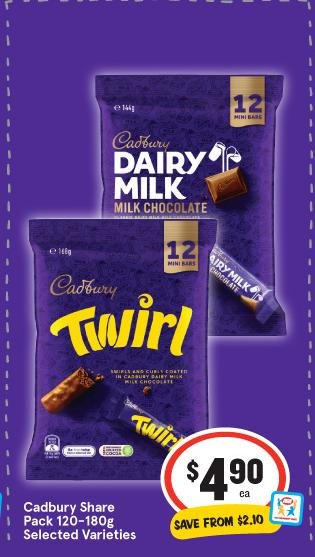description_block: (10, 493, 145, 548)
price_main: (160, 435, 297, 507)
product_image_block: (17, 62, 293, 442)
promo_text_block: (156, 504, 287, 539)
